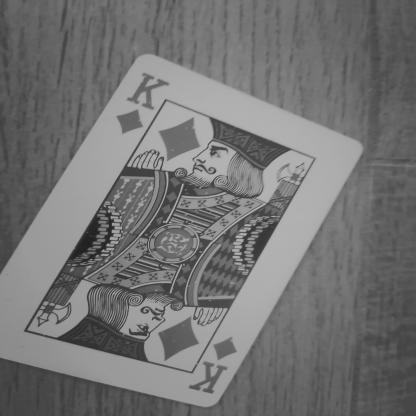KD: (108, 68, 182, 140), (180, 330, 258, 398)
